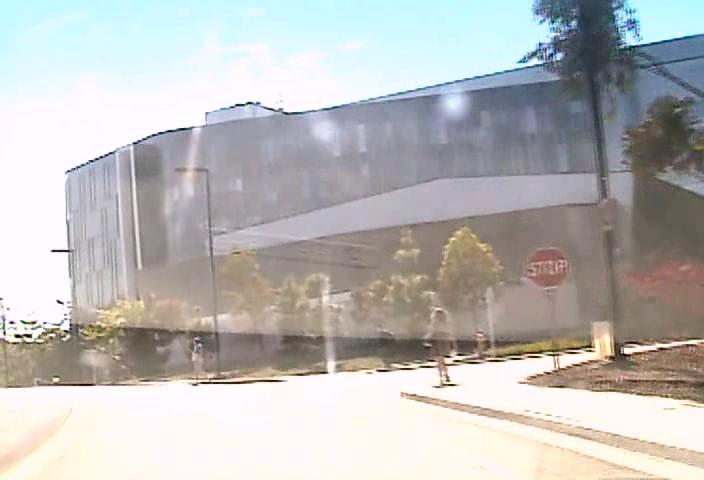stop: (525, 246, 569, 288)
